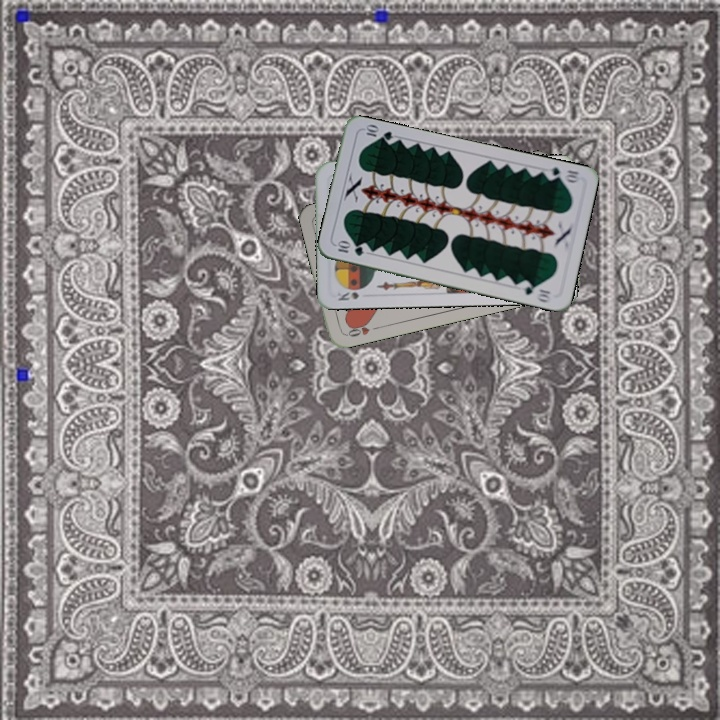G10: (541, 163, 582, 186), (332, 238, 366, 258)
HO: (341, 318, 382, 339)
SK: (334, 288, 361, 303)
